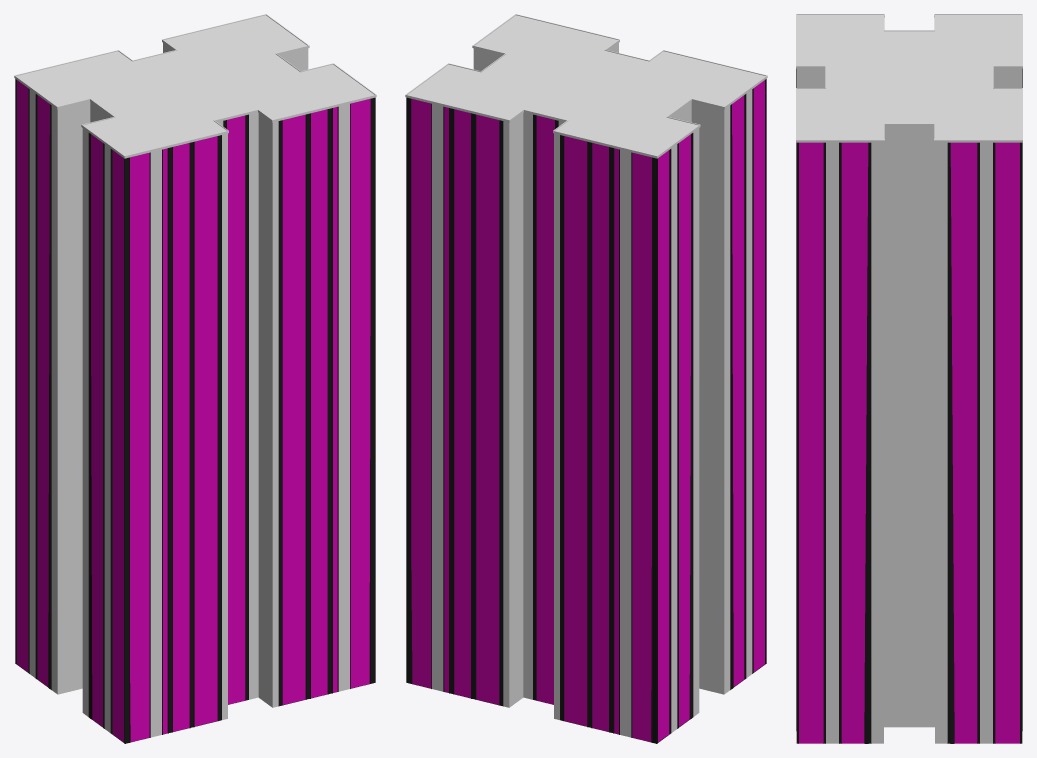
The picture shows the model from 3 angles, left to right: view 1: azimuth 30°, elevation 25°; view 2: azimuth 150°, elevation 25°; view 3: azimuth 270°, elevation 25°; orthographic projection. The views are drawn at different scales.
Visible parts, largest first — view 1: gb3_mesh.002; view 2: gb3_mesh.002; view 3: gb3_mesh.002.
Boxes of the visible parts, x1,y1,x2,y2 form: gb3_mesh.002: (14,14,376,743); gb3_mesh.002: (405,14,767,743); gb3_mesh.002: (796,14,1022,743).
Bounding box in the file's own units: 7860 × 17520 × 5962.
